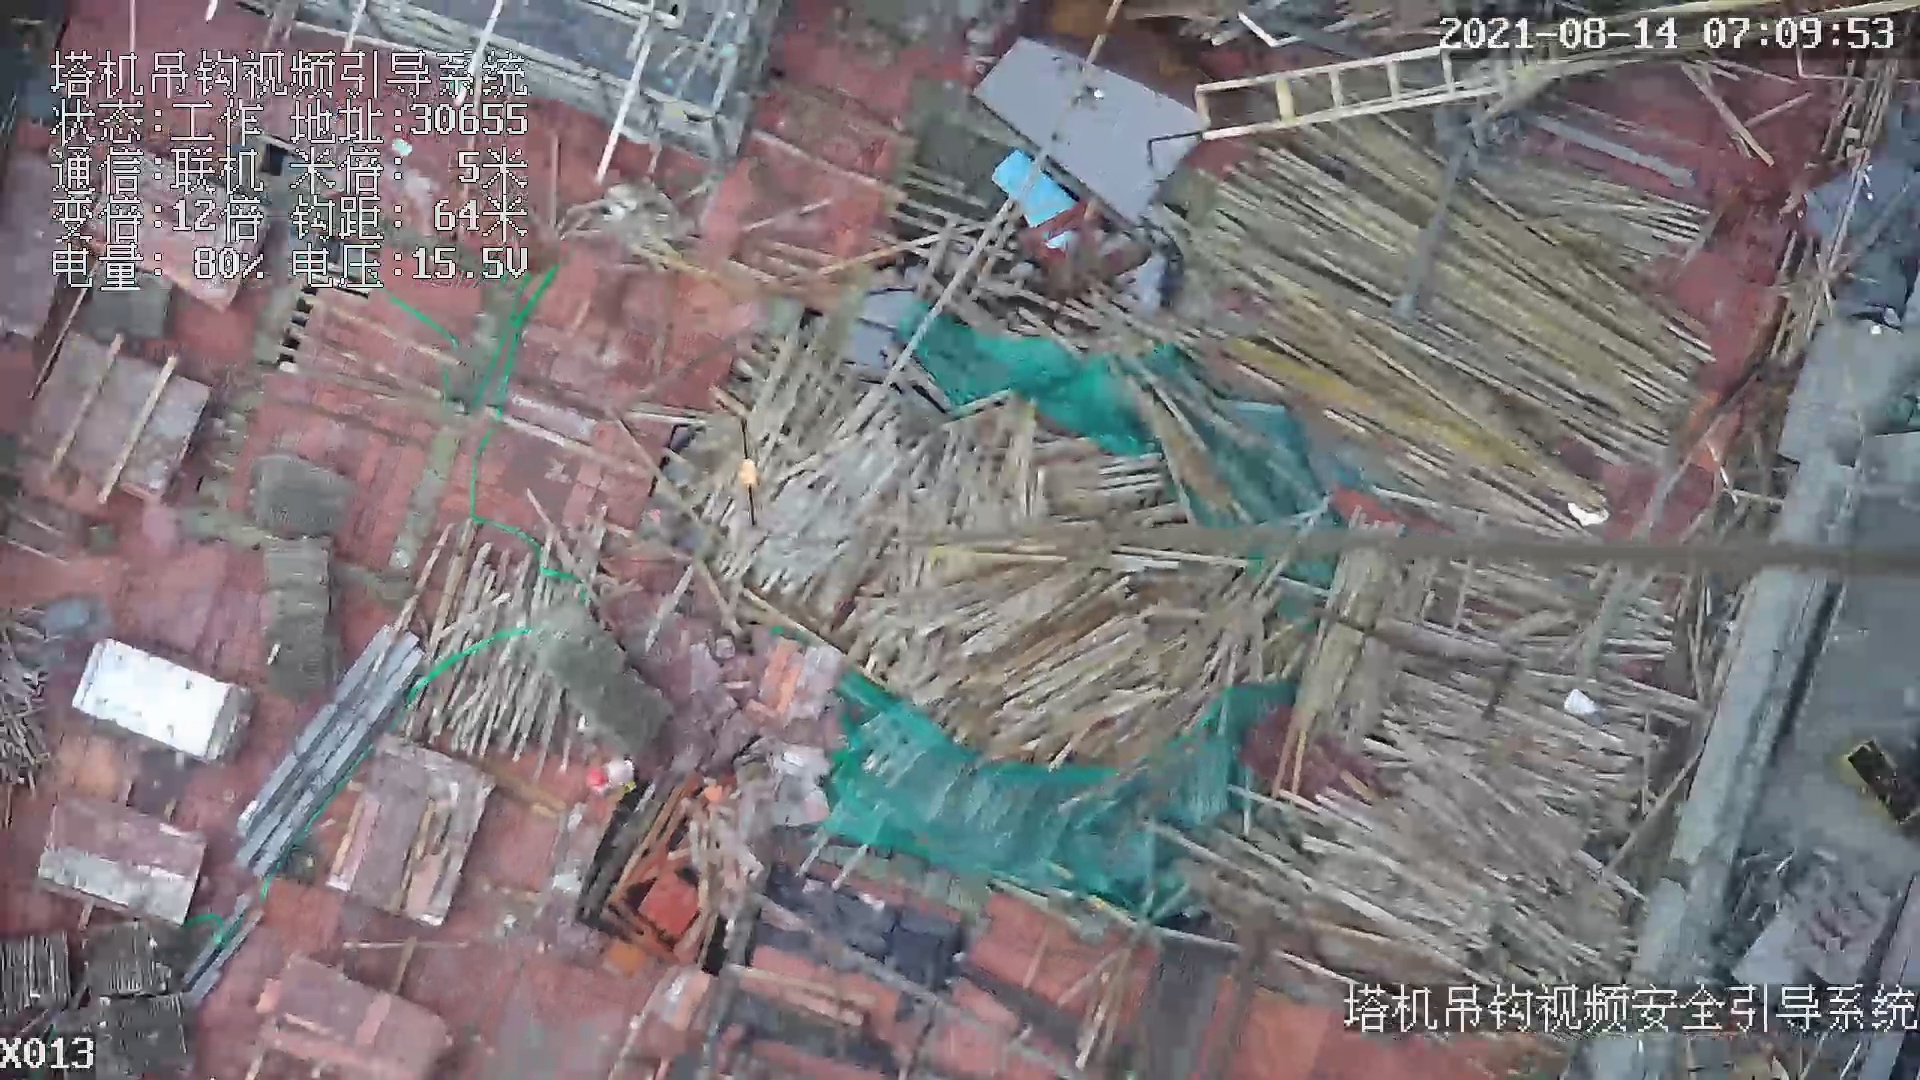helmet: (587, 770, 609, 789)
hook: (724, 410, 770, 527)
person: (586, 756, 641, 789)
